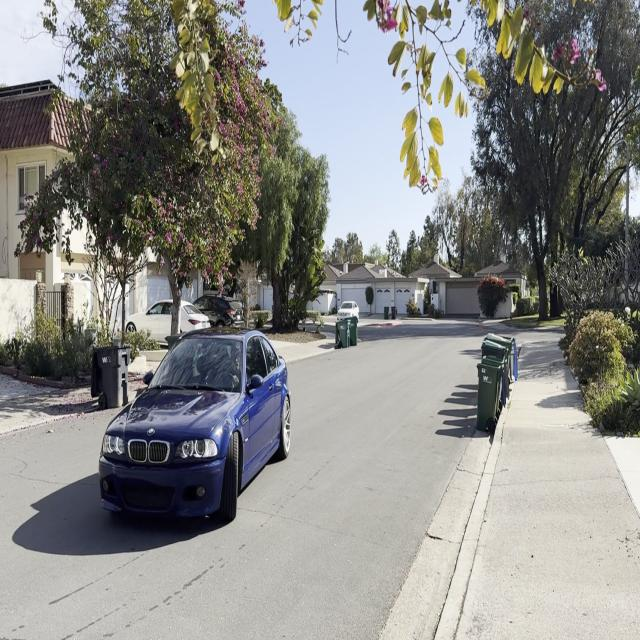Carbeetle: (94, 318, 298, 535)
